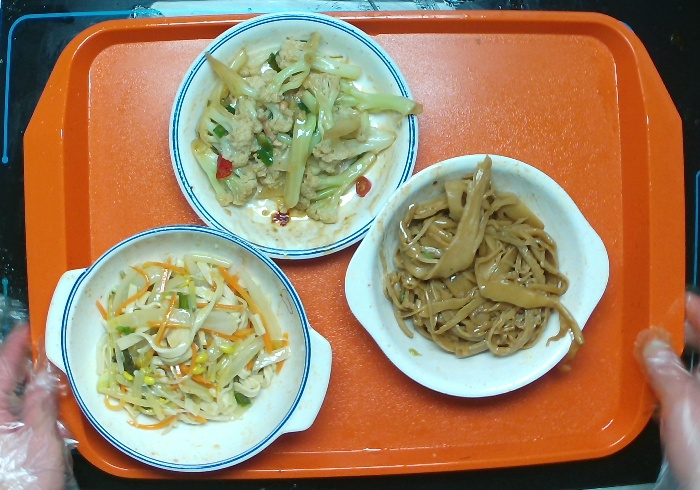HZYJPL-Dai_Er_Bai_Yuan_Wan: (334, 147, 615, 401)
HZYJPL-Lan_Bian_Dai_Er_Wan: (35, 221, 340, 478)
HZYJPL-Lan_Bian_Yuan_Die: (165, 6, 423, 266)
